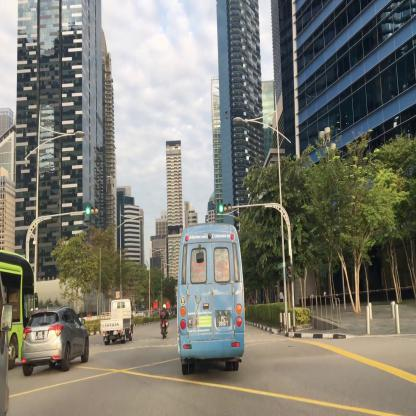green_traffic_light: (218, 197, 234, 215), (84, 203, 99, 219)
